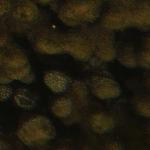dead: (7, 6, 146, 148)
